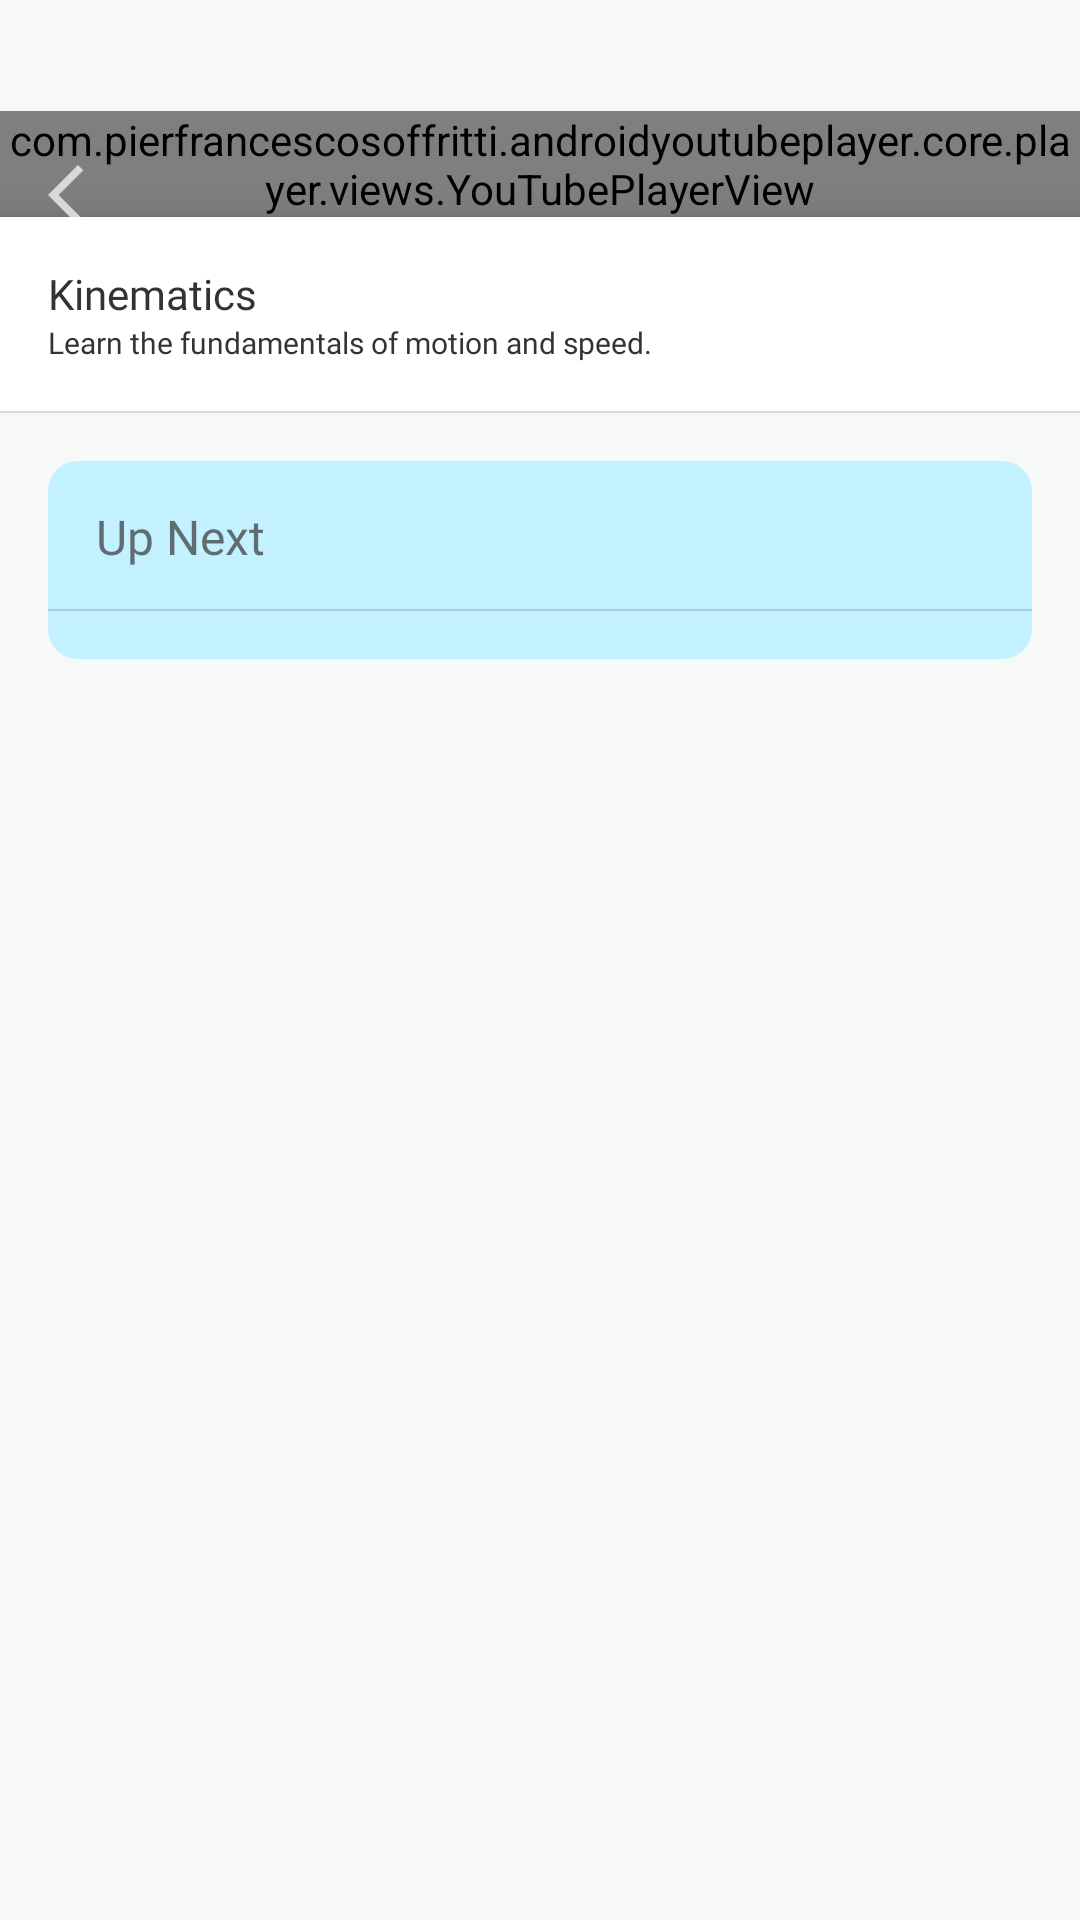

Screen size 1080×1920. Icon name, then its center in pixels as [x,y]:
arrow back: [66,195]
